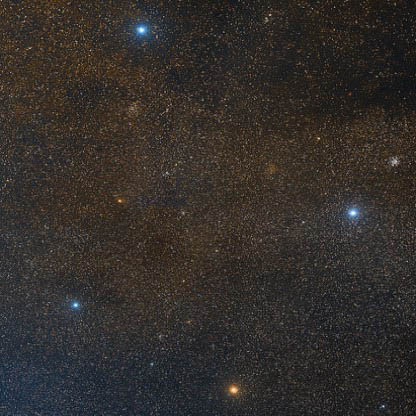Southern Cross: (208, 371, 248, 405), (342, 198, 376, 228), (57, 291, 89, 321), (120, 16, 152, 43)
